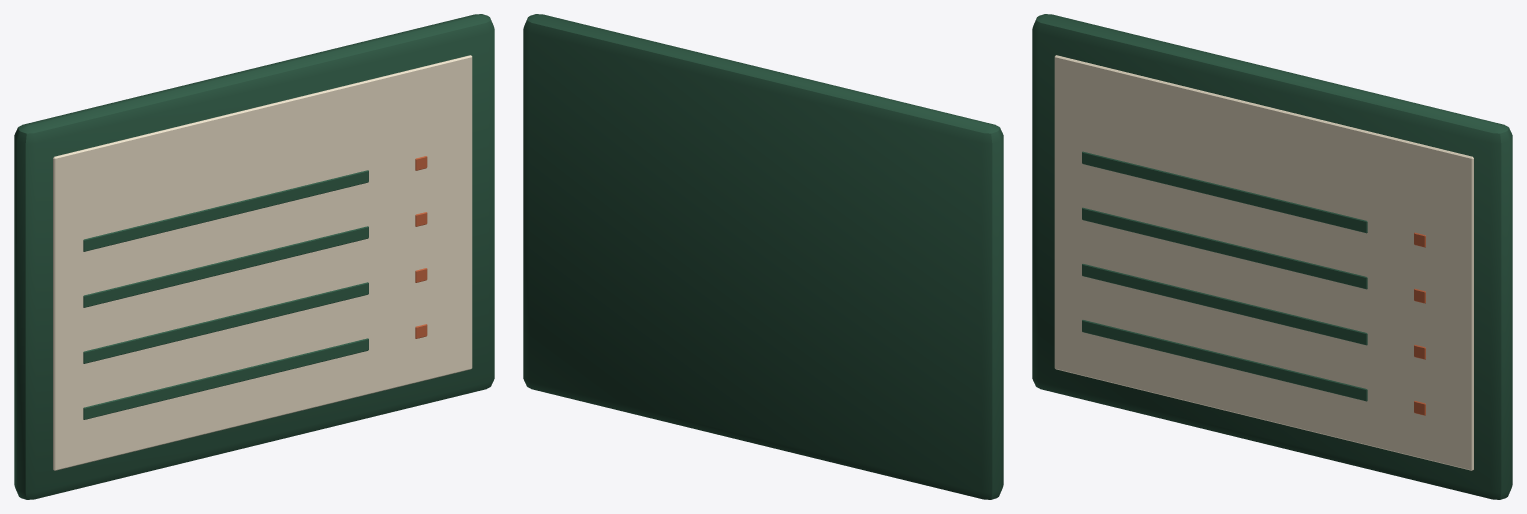
File: directory_sign.glb
The picture shows the model from 3 angles, left to right: view 1: azimuth 30°, elevation 25°; view 2: azimuth 150°, elevation 25°; view 3: azimuth 330°, elevation 25°; orthographic projection.
Visible parts, largest first — view 1: FURN-directory_sign; view 2: FURN-directory_sign; view 3: FURN-directory_sign.
Boxes of the visible parts, x1,y1,x2,y2 form: FURN-directory_sign: (14,14,494,499); FURN-directory_sign: (523,14,1003,499); FURN-directory_sign: (1032,14,1512,499).
Bounding box in the file's own units: 1.2 × 0.9 × 0.078.
